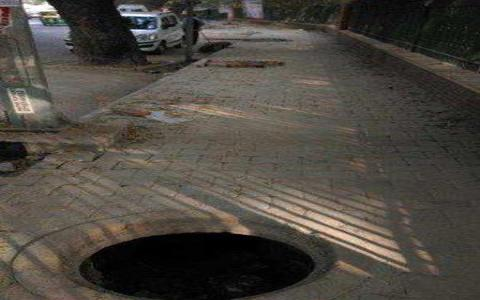open manhole: (20, 190, 343, 298)
